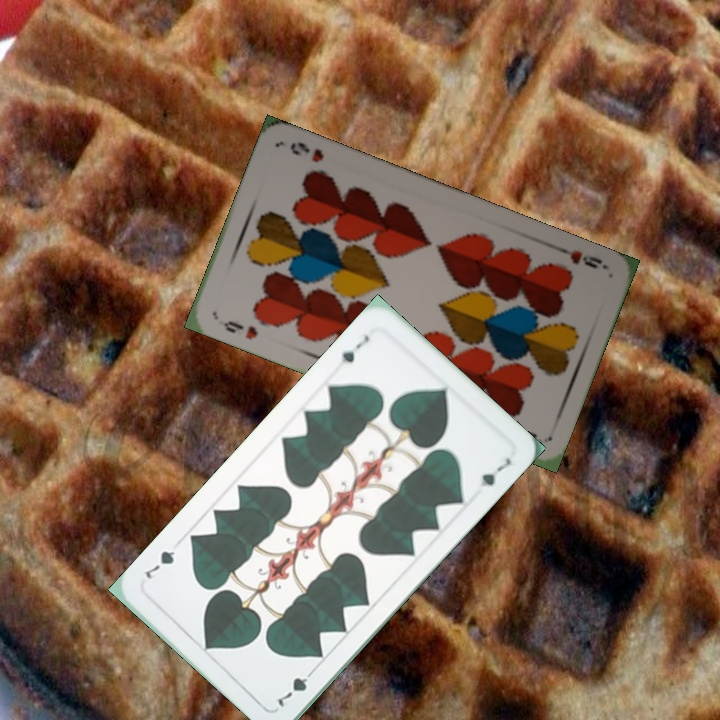G7: (272, 664, 319, 711), (337, 331, 372, 366)
H9: (552, 242, 609, 271), (219, 316, 261, 342)
